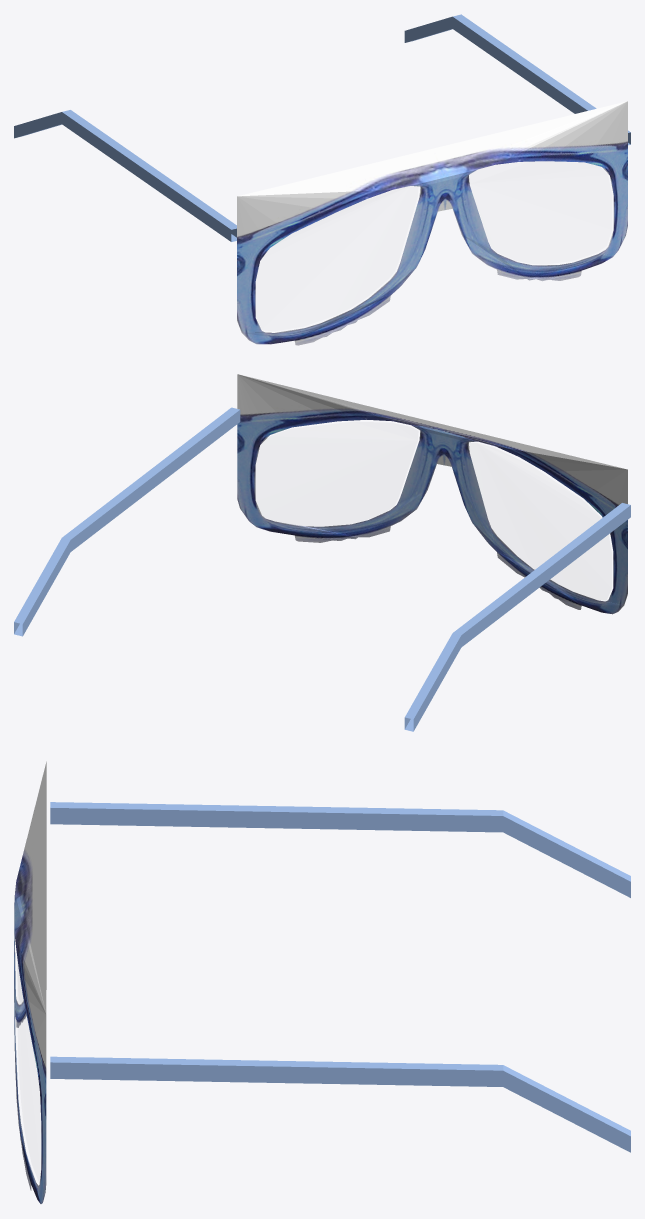
File: gothamstyle-199_blue.glb
3 renders of one model, top to bottom at view 1: azimuth 30°, elevation 25°; view 2: azimuth 150°, elevation 25°; view 3: azimuth 270°, elevation 25°, orthographic. The views are drawn at different scales.
Parts seen in each view (by area): view 1: frame_front, temple_viewer_left, temple_viewer_right; view 2: frame_front, temple_viewer_left, temple_viewer_right; view 3: temple_viewer_left, temple_viewer_right, frame_front.
Part boxes in pixels (x1,y1,x2,y2): frame_front: [237, 101, 627, 345]; temple_viewer_left: [14, 110, 236, 241]; temple_viewer_right: [404, 14, 630, 145]; frame_front: [237, 374, 627, 614]; temple_viewer_left: [404, 503, 630, 731]; temple_viewer_right: [14, 407, 240, 636]; temple_viewer_left: [50, 802, 630, 897]; temple_viewer_right: [50, 1056, 630, 1152]; frame_front: [14, 761, 46, 1203].
Size of the model in its own units: 0.1358 by 0.0514 by 0.136.
3 materials, 2 textured.
